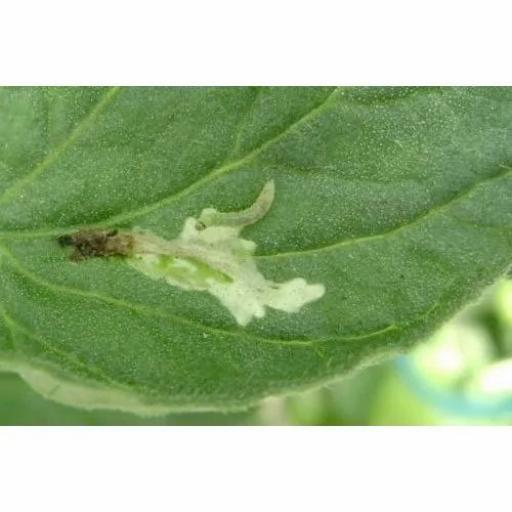disease_tomato: (0, 84, 512, 412)
